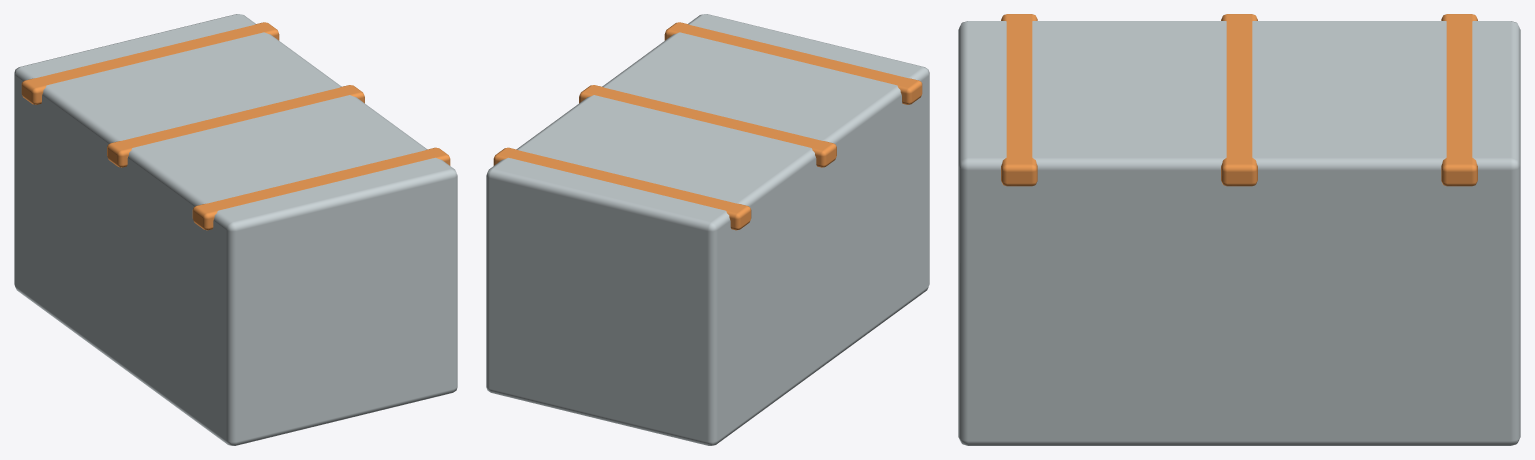
3 renders of one model, left to right at view 1: azimuth 30°, elevation 25°; view 2: azimuth 150°, elevation 25°; view 3: azimuth 270°, elevation 25°, orthographic. The views are drawn at different scales.
Parts seen in each view (by area): view 1: free-cargo-pod; view 2: free-cargo-pod; view 3: free-cargo-pod.
Boxes of the visible parts, left/top/right/bottom form: free-cargo-pod: left=14, top=14, right=457, bottom=445; free-cargo-pod: left=486, top=14, right=929, bottom=445; free-cargo-pod: left=958, top=14, right=1520, bottom=445.
Bounding box in the file's own units: 1.5 × 1.3 × 2.3.
